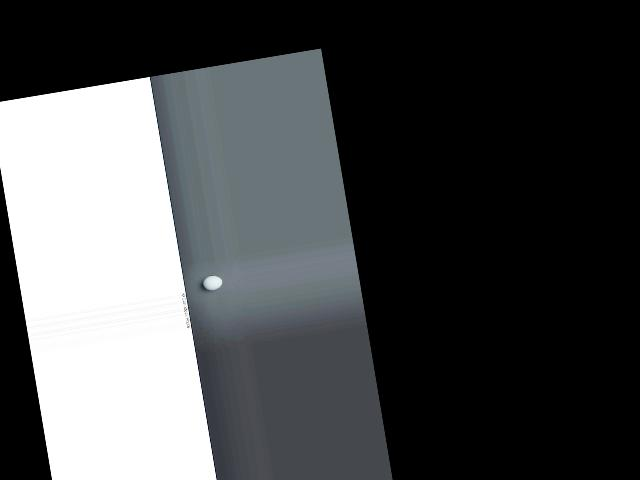egg: (201, 274, 223, 291)
